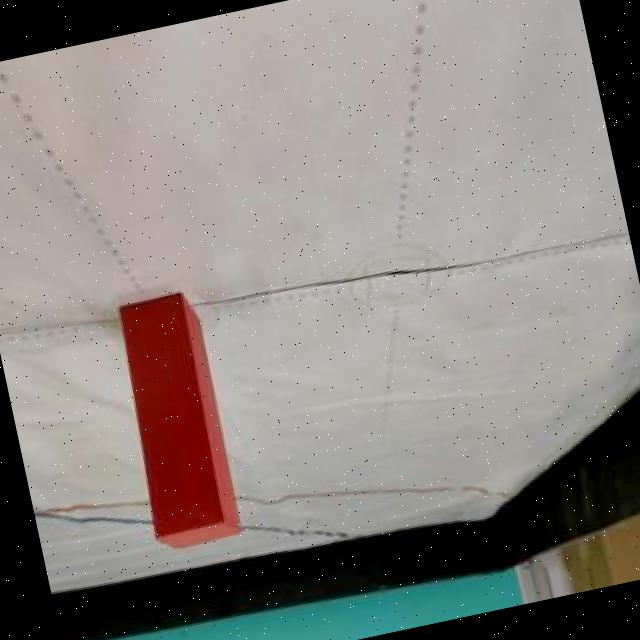redbox: (102, 279, 245, 556)
